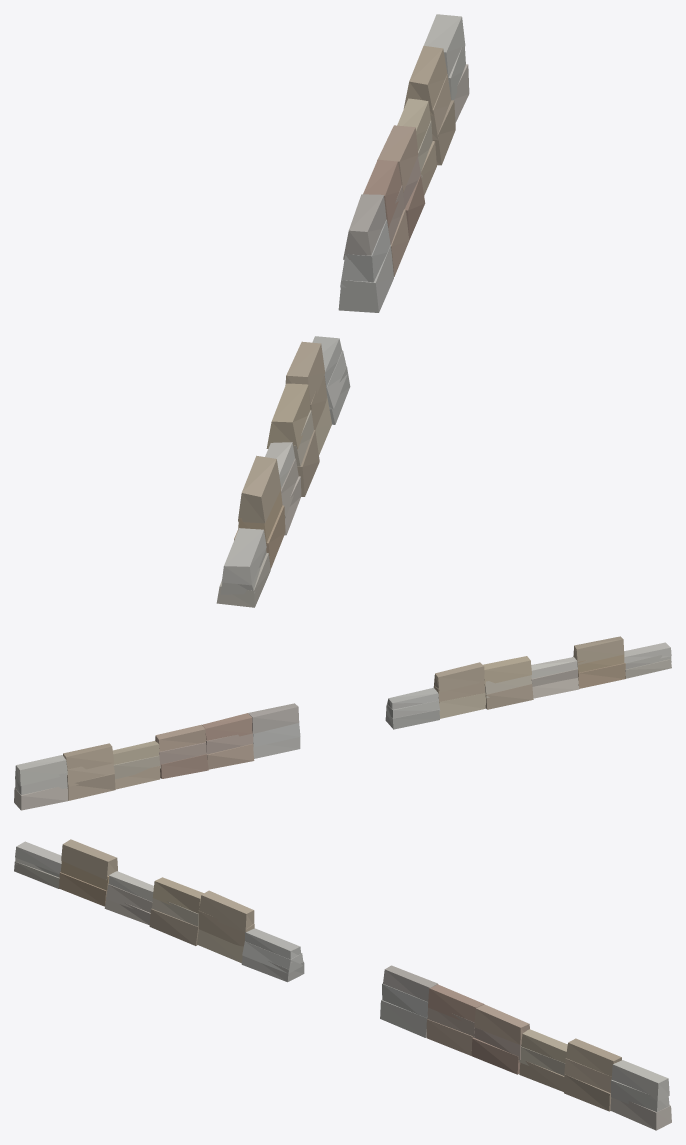
File: farm_-19_-25_mid.glb
The picture shows the model from 3 angles, top to bottom: view 1: azimuth 30°, elevation 25°; view 2: azimuth 150°, elevation 25°; view 3: azimuth 270°, elevation 25°; orthographic projection. The views are drawn at different scales.
Visible parts, largest first — view 1: geometry_0; view 2: geometry_0; view 3: geometry_0.
Part boxes in pixels (x1,y1,x2,y2): geometry_0: (216, 14, 469, 607); geometry_0: (14, 636, 671, 810); geometry_0: (14, 839, 671, 1130).
Size of the model in its own units: 14.51 by 2.48 by 17.84.
